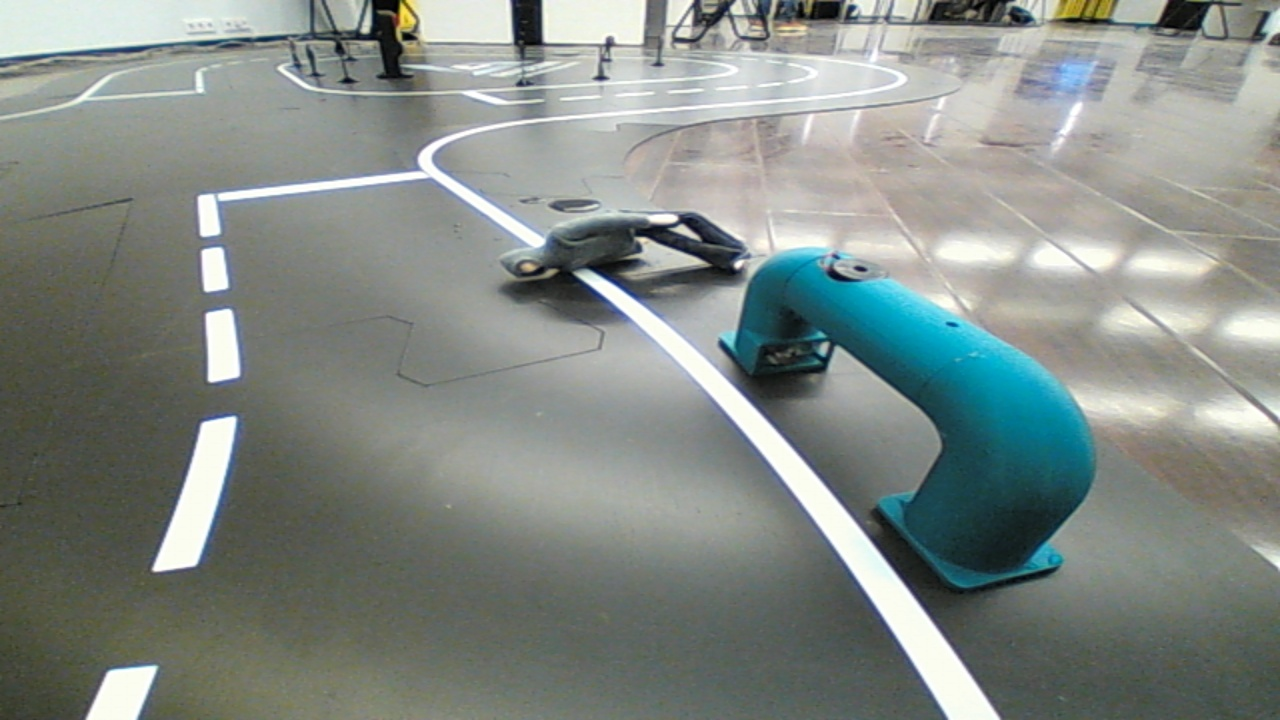Pedestrian crossing: (724, 210, 1111, 612)
Road works: (499, 196, 765, 307)
